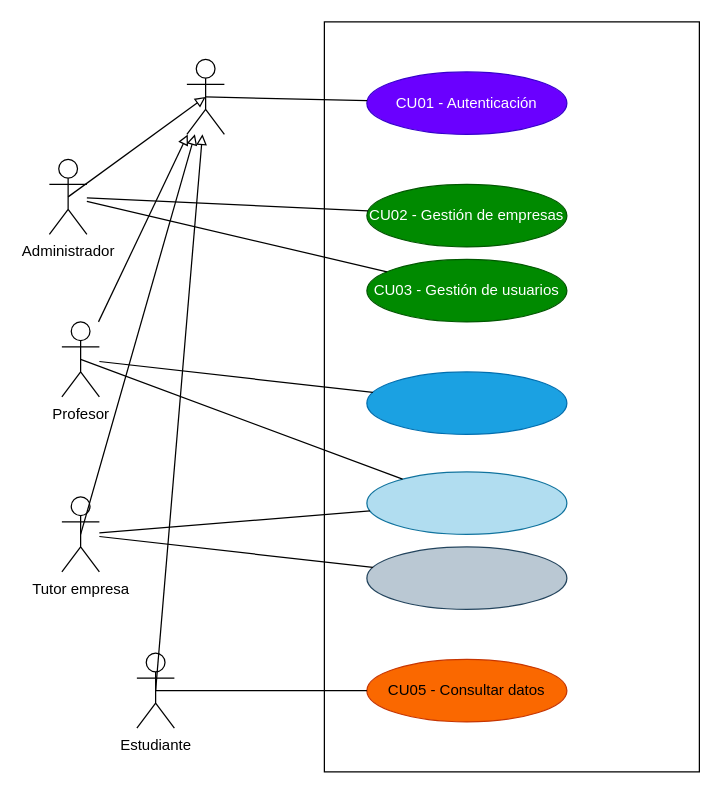
The diagram is 721 pixels wide and 794 high, and some of its shapes have lost their labels. The centre of each missing label's shape, as x and y in pixels:
"CU04 - gestion de FCT" belongs at pixel 466 402.
"CU06 - Registrar asistencia" belongs at pixel 466 577.
"CU07 - Evaluación" belongs at pixel 466 502.
"Usuario" belongs at pixel 205 96.
